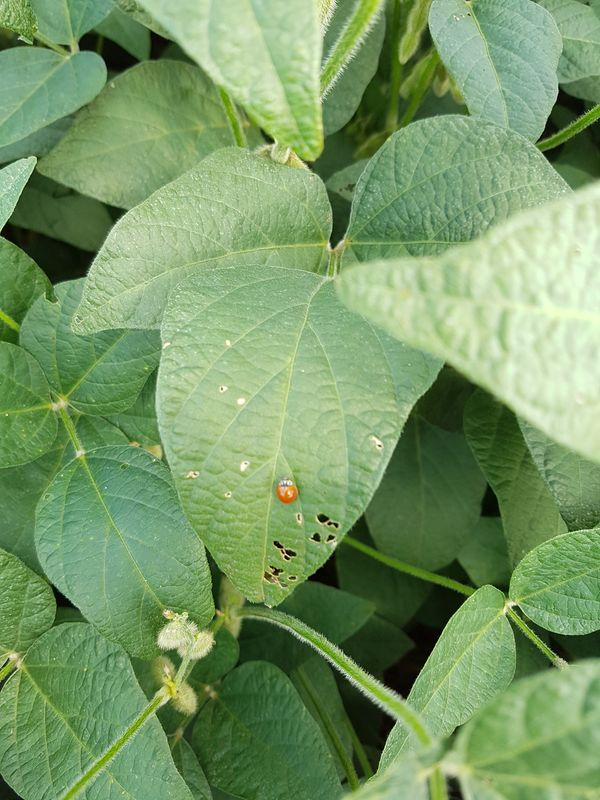Coccinellidae: (263, 473, 306, 509)
